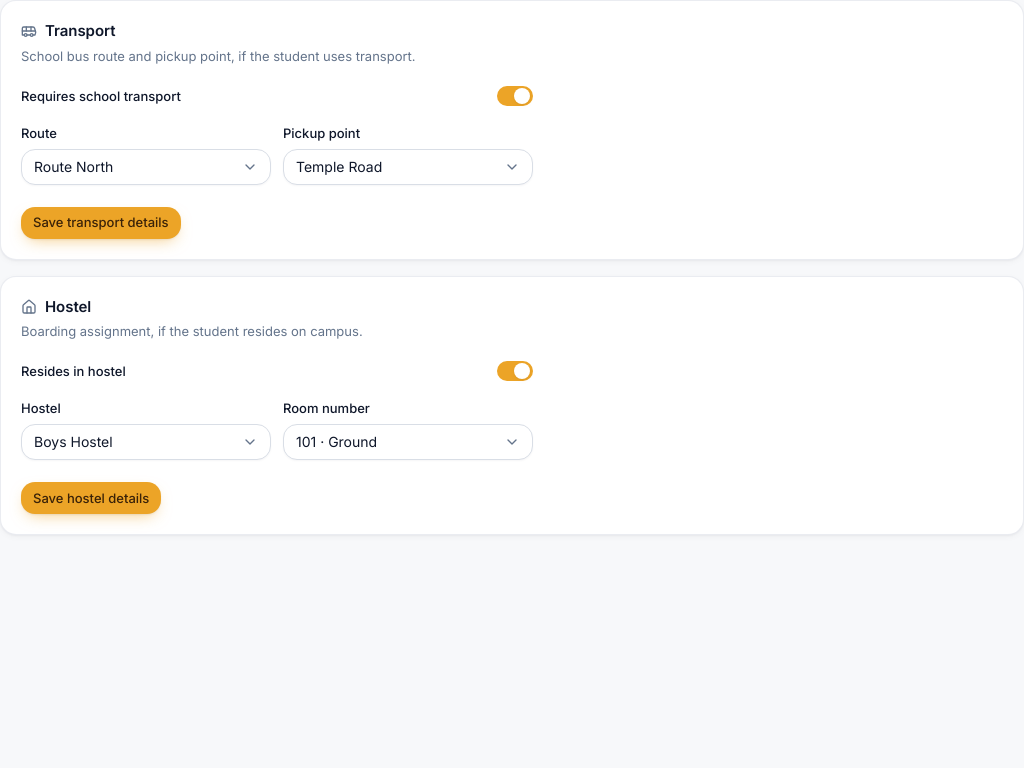
Transport & Hostel tab › lists the rooms of the chosen hostel only, and leaves out rooms under maintenance
Click the dropdown named "Room number" at point(408, 442), box [283,424,533,460]
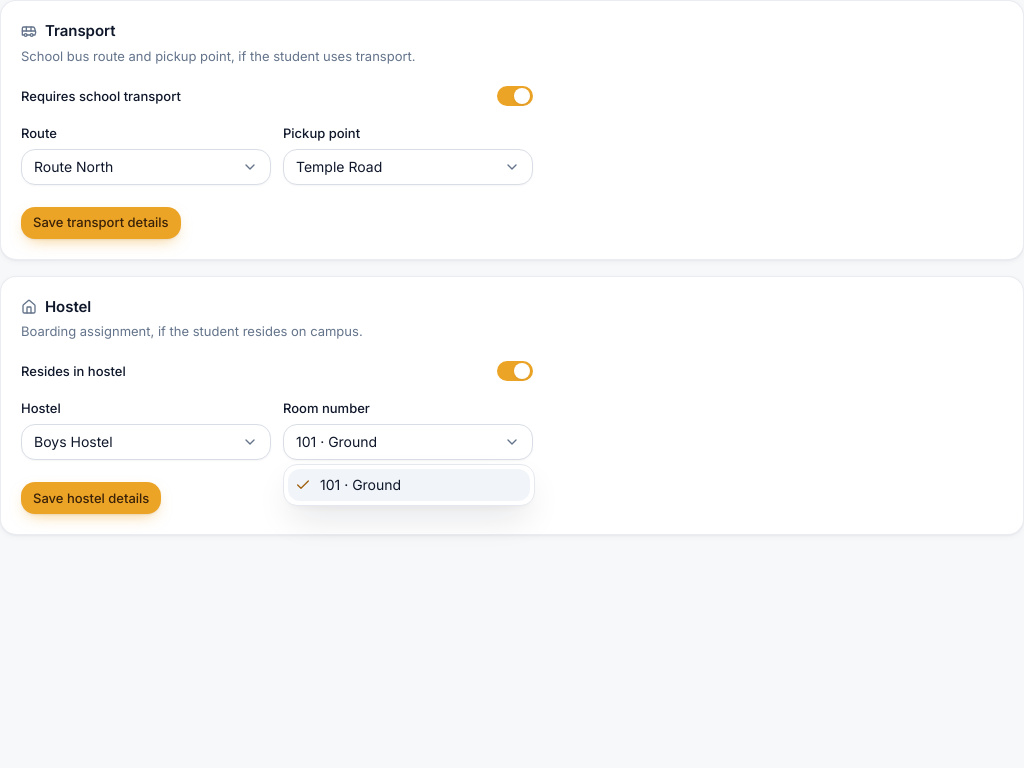
Result: the option "101 · Ground" is shown at [288,469,530,501]
